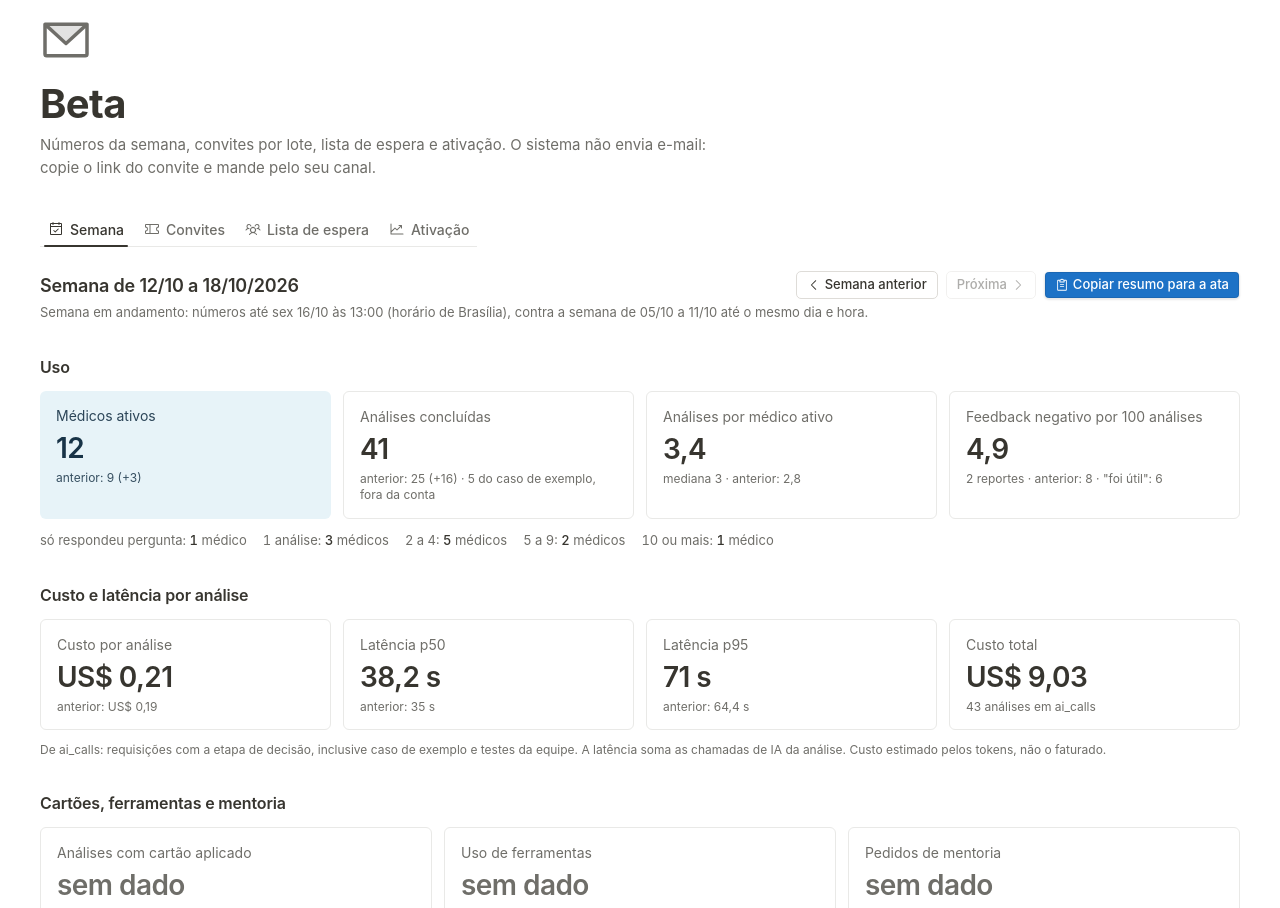
Console admin — semana do beta (CC-705) › walks back to a closed week and returns to the current one
The width and height of the screenshot is (1280, 908).
Expected: the heading "Semana de 12/10 a 18/10/2026" is shown, [40,272,299,298]
Expected: the 2nd button named "Próxima" is disabled, [946,271,1036,299]
Click the 1st button named "Semana anterior". click: (867, 285)
box: [796,271,938,299]
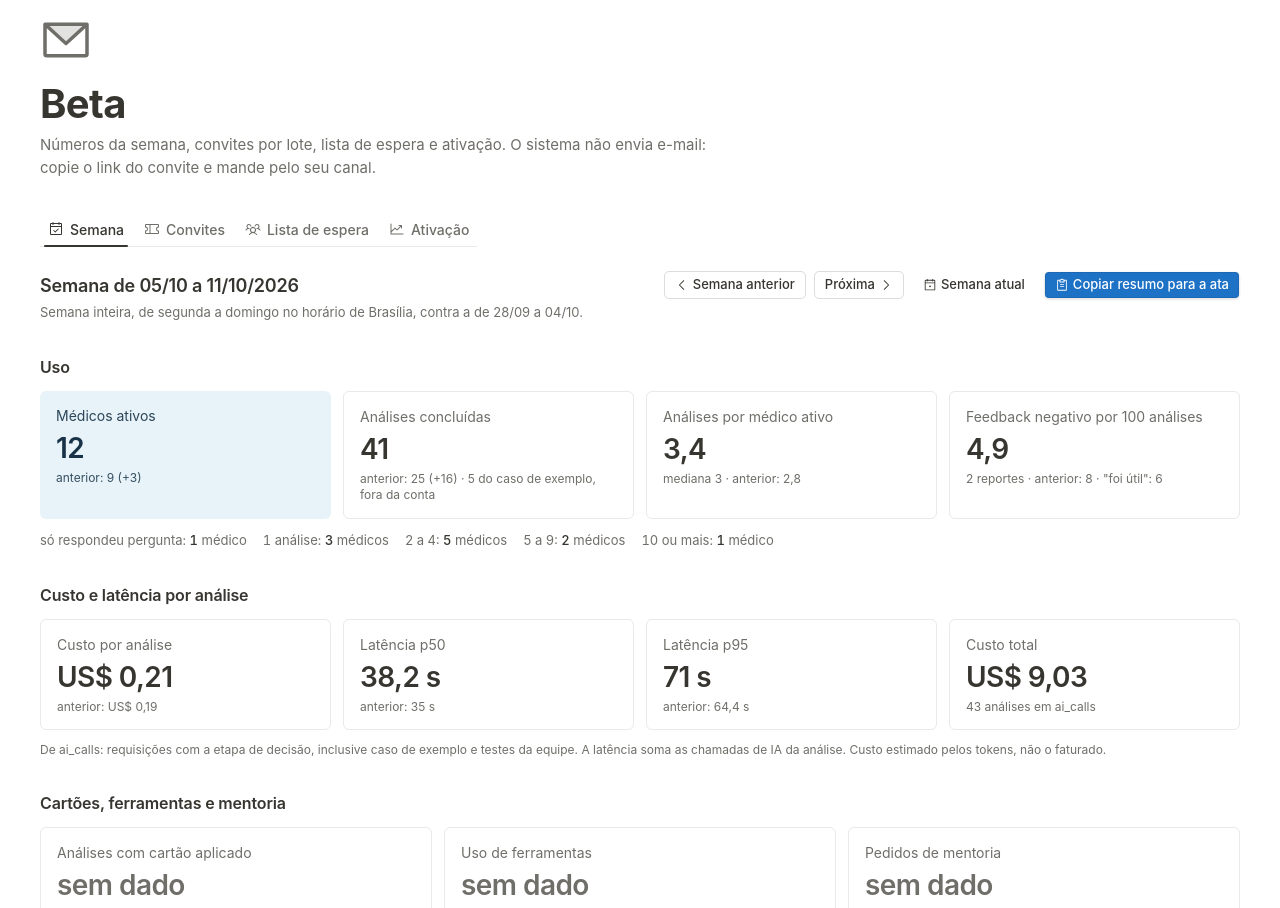
Expected: the heading "Semana de 05/10 a 11/10/2026" is shown, [40,272,299,298]
Expected: the text "Semana inteira, de segunda a domingo" is shown, [40,304,583,320]
Expected: the 2nd button named "Próxima" is enabled, [814,271,904,299]
Click the 3rd button named "Semana atual". click: (974, 285)
box: [912,271,1036,299]
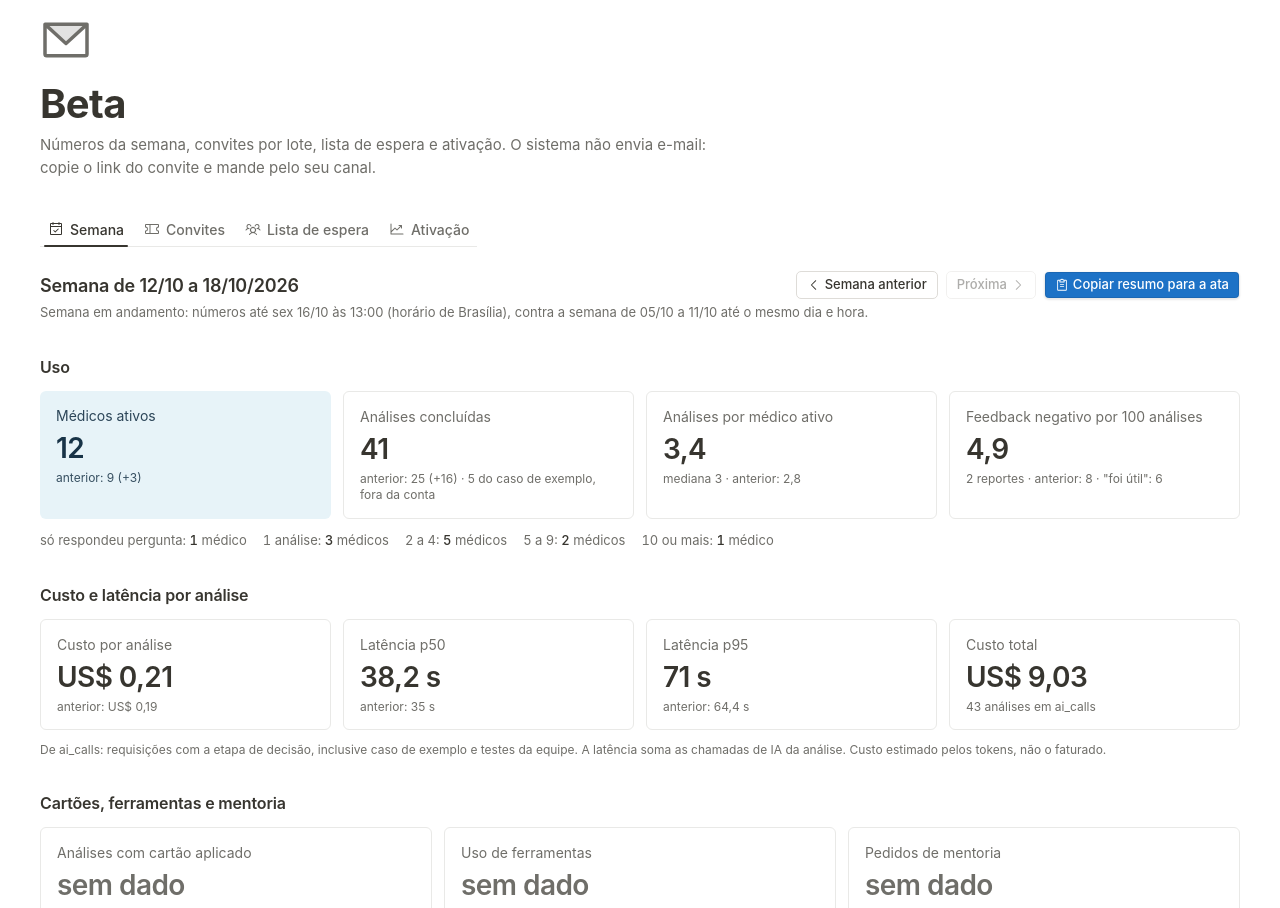
Expected: the heading "Semana de 12/10 a 18/10/2026" is shown, [40,272,299,298]
